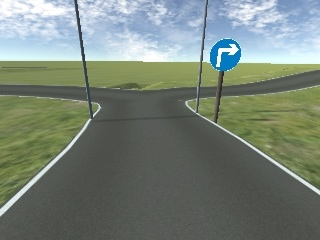turn_right_sign: (204, 35, 244, 73)
